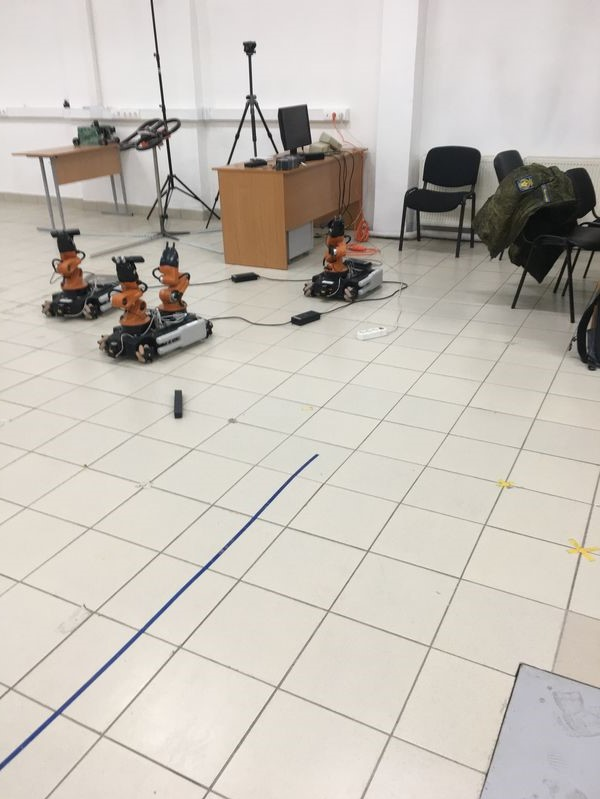socket: (352, 322, 392, 345)
